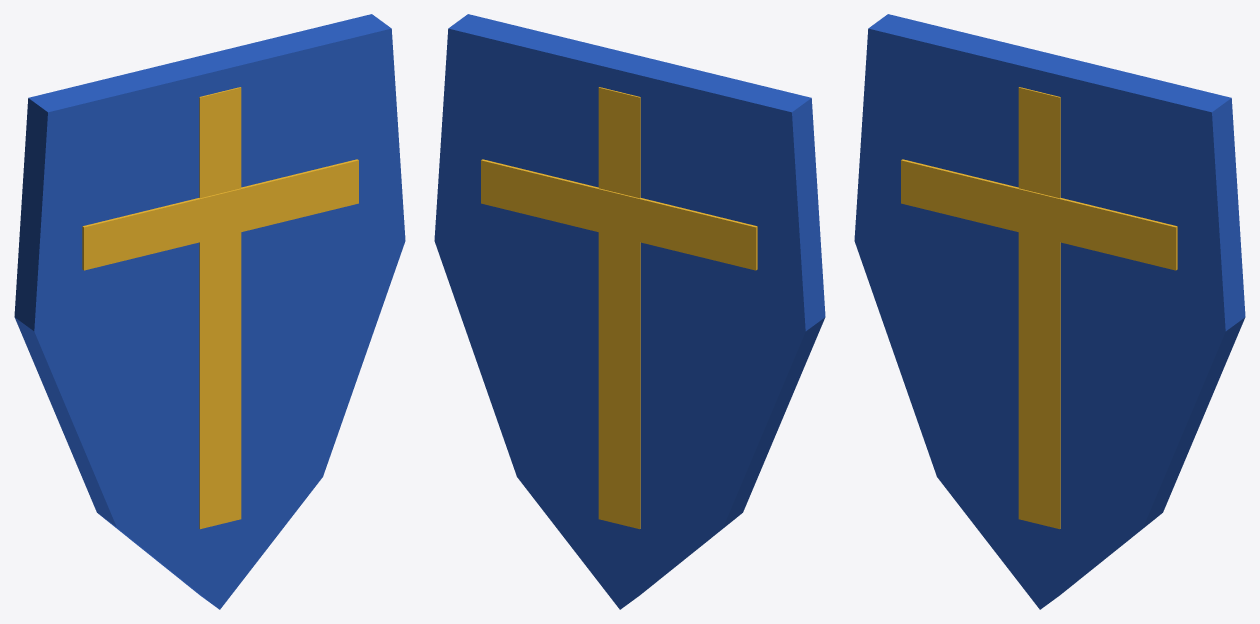
File: kite_shield.fbx
3 renders of one model, left to right at view 1: azimuth 30°, elevation 25°; view 2: azimuth 150°, elevation 25°; view 3: azimuth 330°, elevation 25°, orthographic.
Parts seen in each view (by area): view 1: kite_shield; view 2: kite_shield; view 3: kite_shield.
Boxes of the visible parts, <box> form: kite_shield: <box>14,14,405,609</box>; kite_shield: <box>434,14,825,609</box>; kite_shield: <box>854,14,1245,609</box>.
Size of the model in its own units: 0.54 by 0.75 by 0.058.
